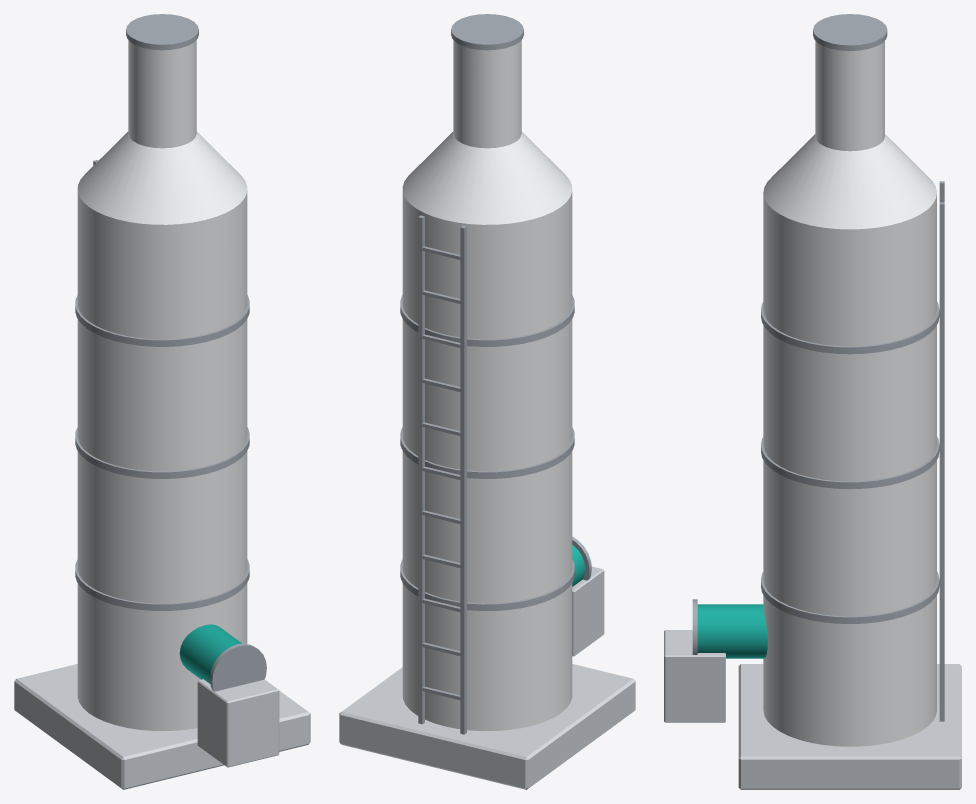
Rendered from scrubber-tower.glb.
The picture shows the model from 3 angles, left to right: view 1: azimuth 30°, elevation 25°; view 2: azimuth 150°, elevation 25°; view 3: azimuth 270°, elevation 25°; orthographic projection. The views are drawn at different scales.
Visible parts, largest first — view 1: scrubber-tower; view 2: scrubber-tower; view 3: scrubber-tower.
Boxes of the visible parts, <box> form: scrubber-tower: <box>14,14,310,789</box>; scrubber-tower: <box>339,14,635,789</box>; scrubber-tower: <box>664,14,961,789</box>.
Size of the model in its own units: 1.8 by 6.35 by 2.4.
